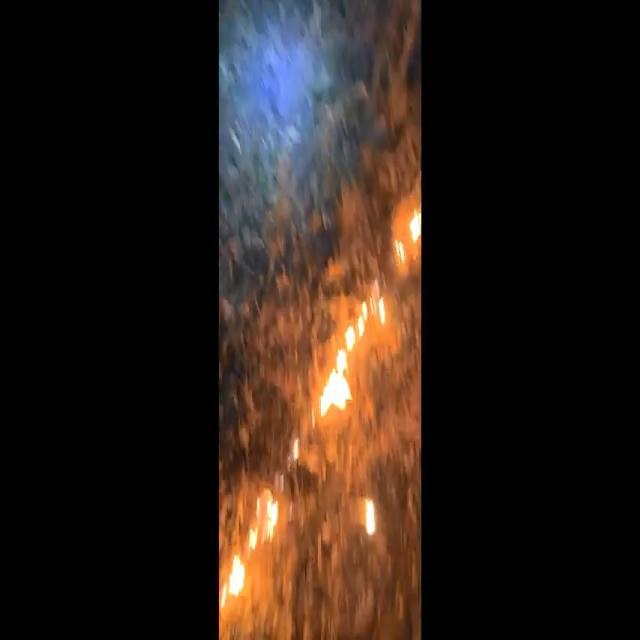Fire: (218, 187, 422, 610)
